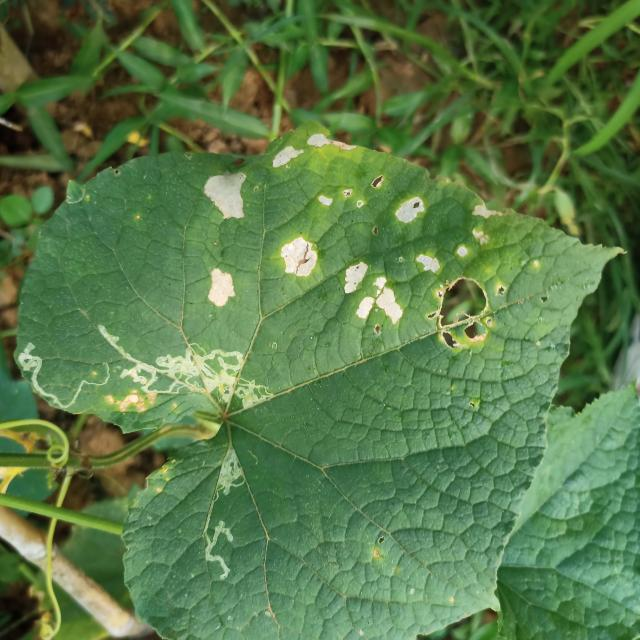disease_cucumber: (272, 129, 544, 361), (199, 161, 256, 317)
